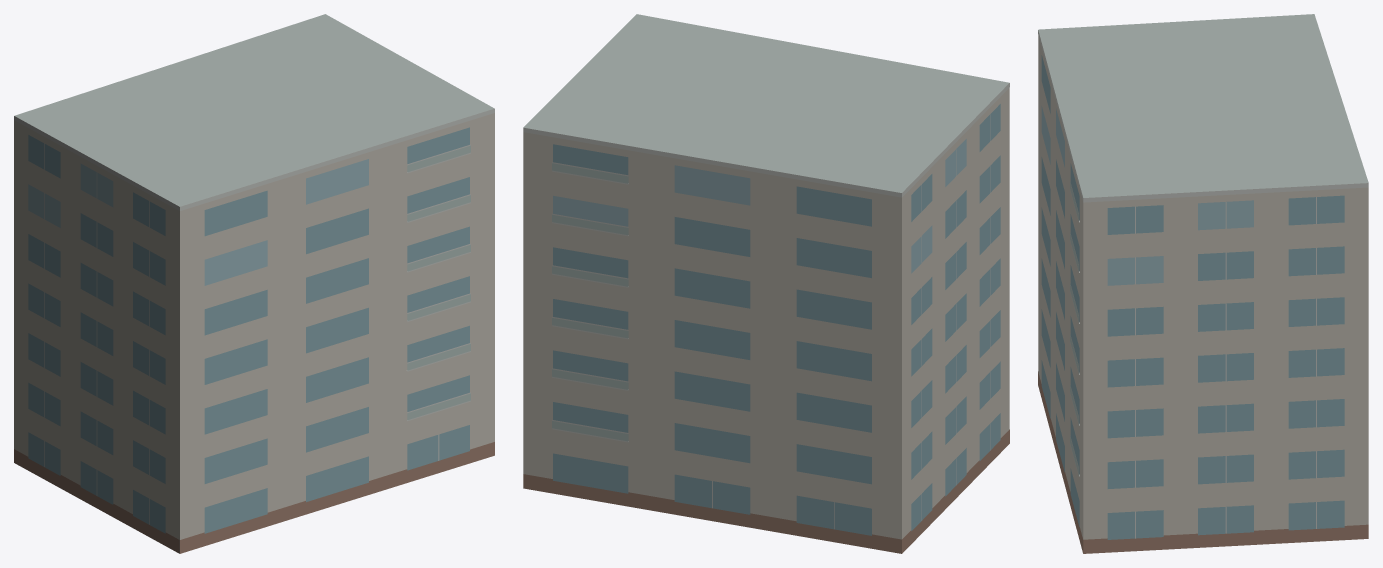
File: survey-upis-32819566.glb
3 renders of one model, left to right at view 1: azimuth 30°, elevation 25°; view 2: azimuth 150°, elevation 25°; view 3: azimuth 270°, elevation 25°, orthographic. The views are drawn at different scales.
Visible parts, largest first — view 1: survey-upis-32819566.tmp; view 2: survey-upis-32819566.tmp; view 3: survey-upis-32819566.tmp.
Boxes of the visible parts, x1,y1,x2,y2 form: survey-upis-32819566.tmp: [14, 14, 494, 553]; survey-upis-32819566.tmp: [523, 14, 1009, 553]; survey-upis-32819566.tmp: [1038, 14, 1368, 553].
Bounding box in the file's own units: 21.65 × 19.5 × 16.43.
